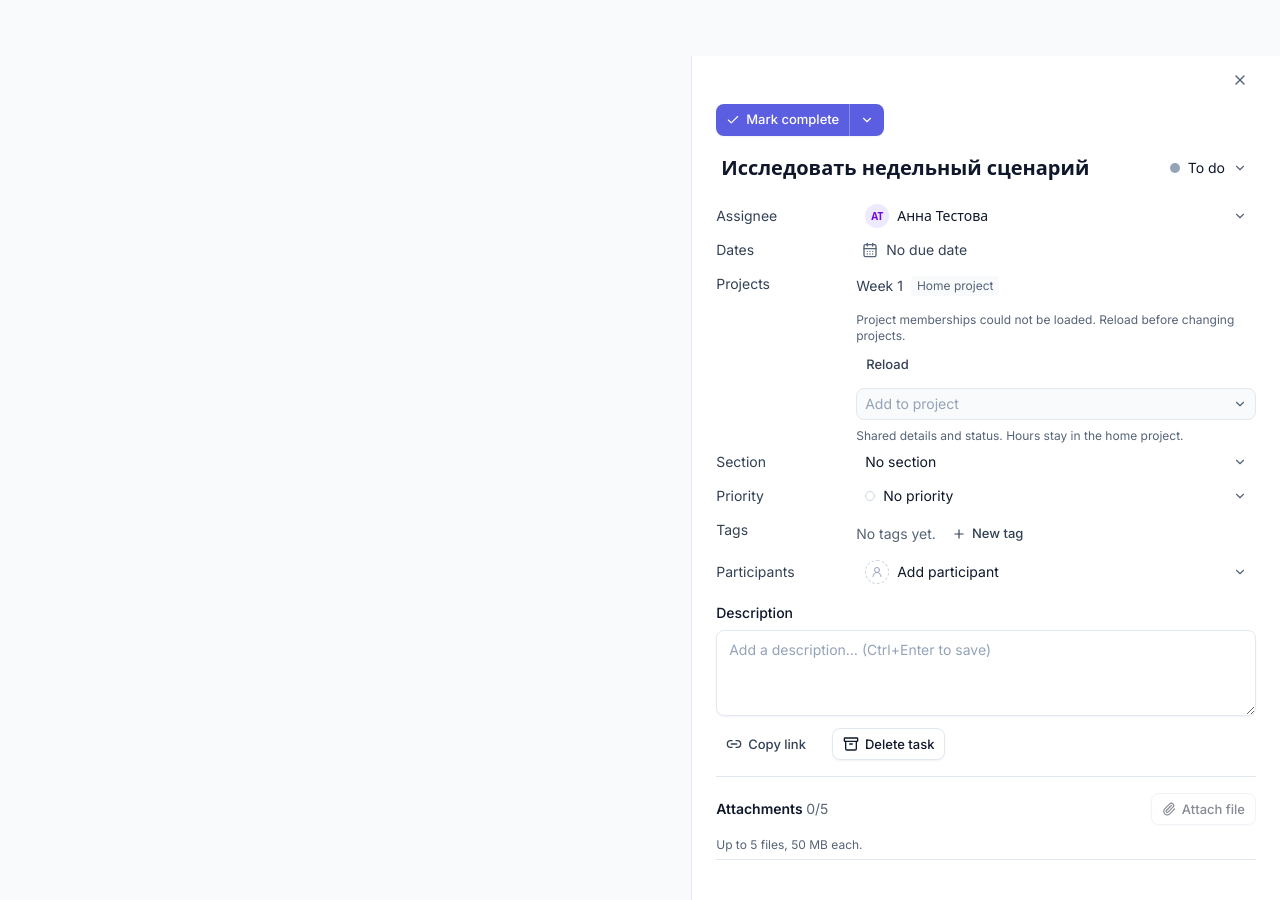
Scenario: saved task pane autosave › puts Mark complete with its continue menu at the top of the pane, above the title
Click the button named "More ways to complete" at (867, 120), box [849,104,884,136]
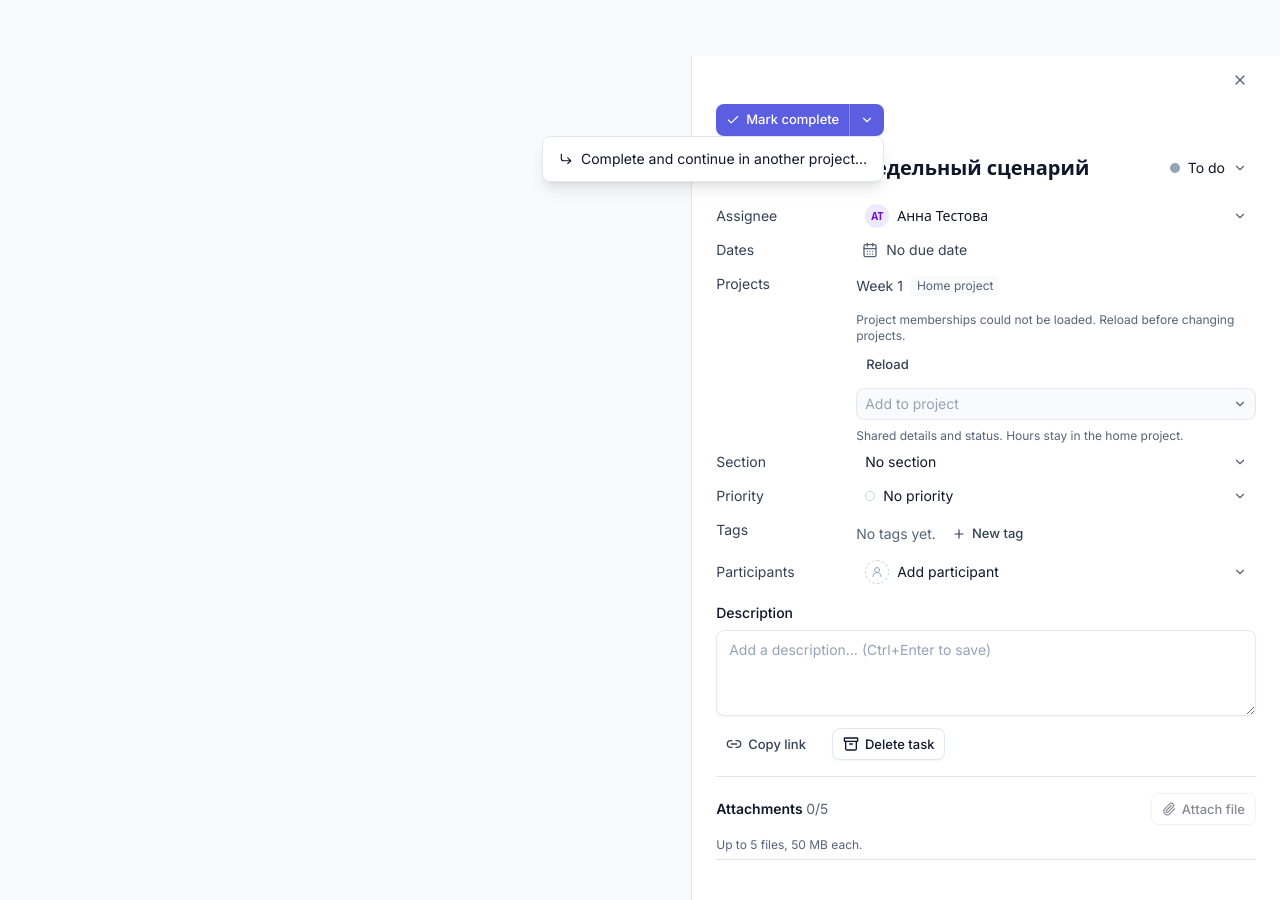
Check: the menu item "Complete and continue in another project…" is shown, box [559,150,867,167]
